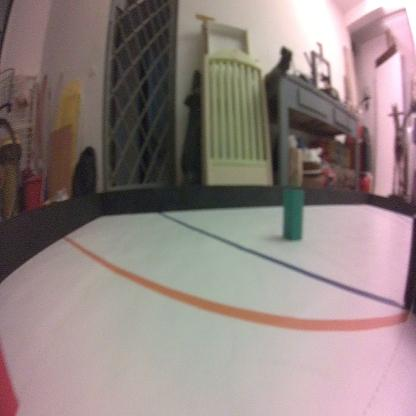green: (282, 185, 305, 241)
